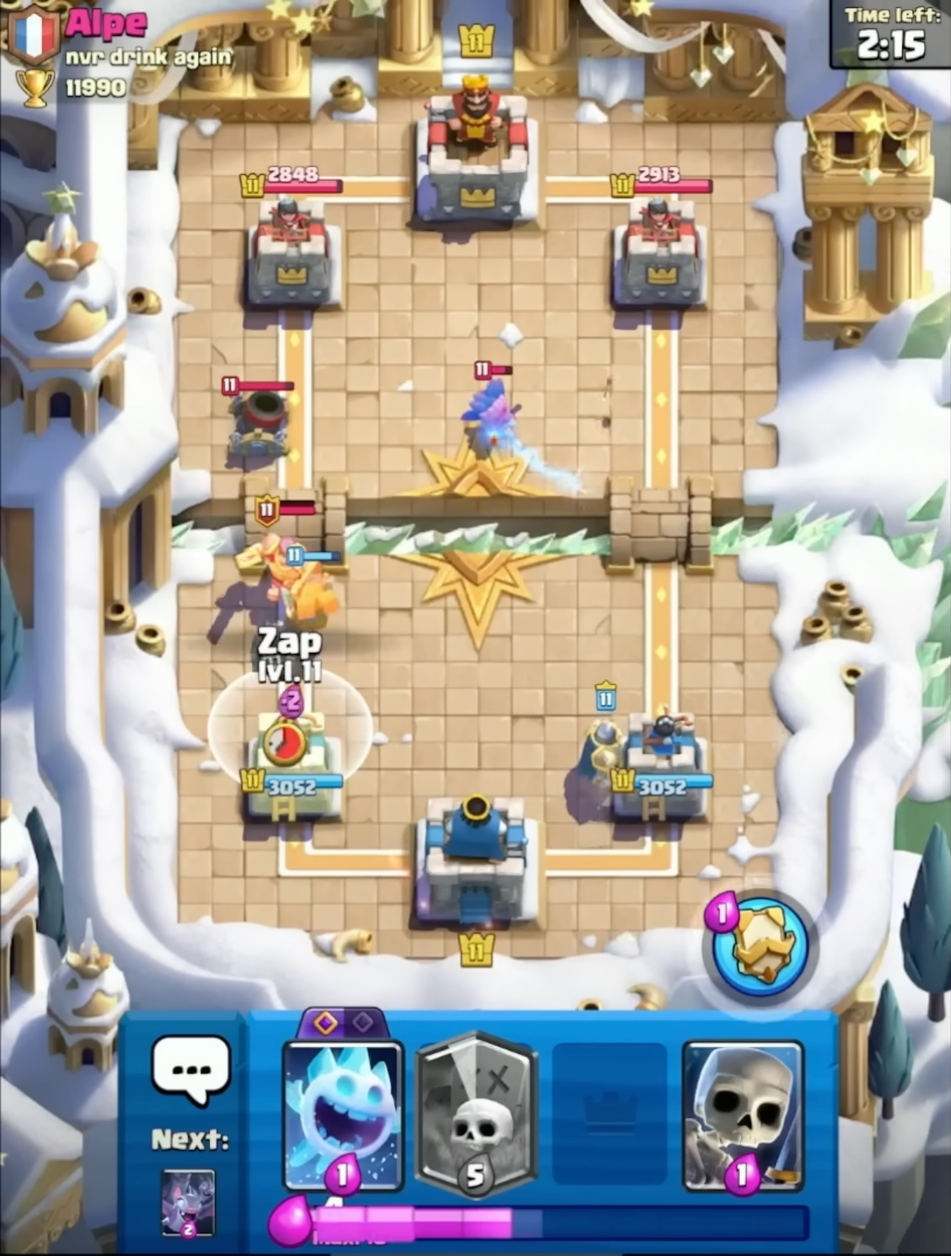dart-goblin: (456, 352, 531, 459)
hero-knight: (228, 496, 325, 612)
mortar: (217, 371, 304, 464)
